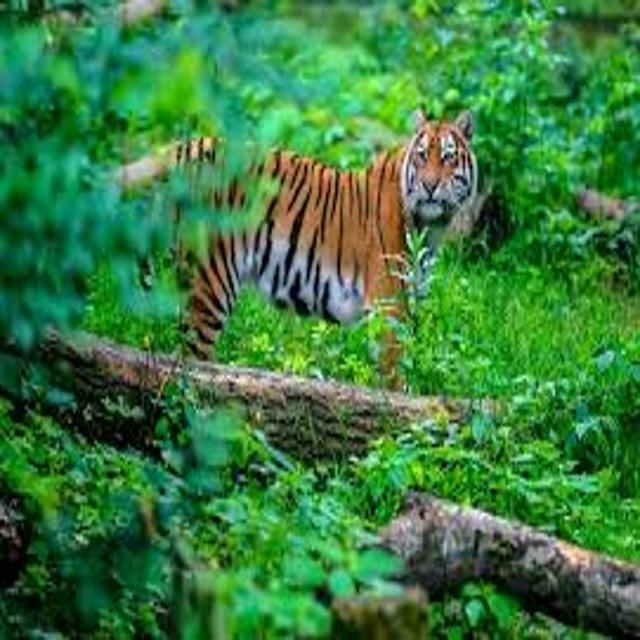tiger: (80, 56, 516, 442)
